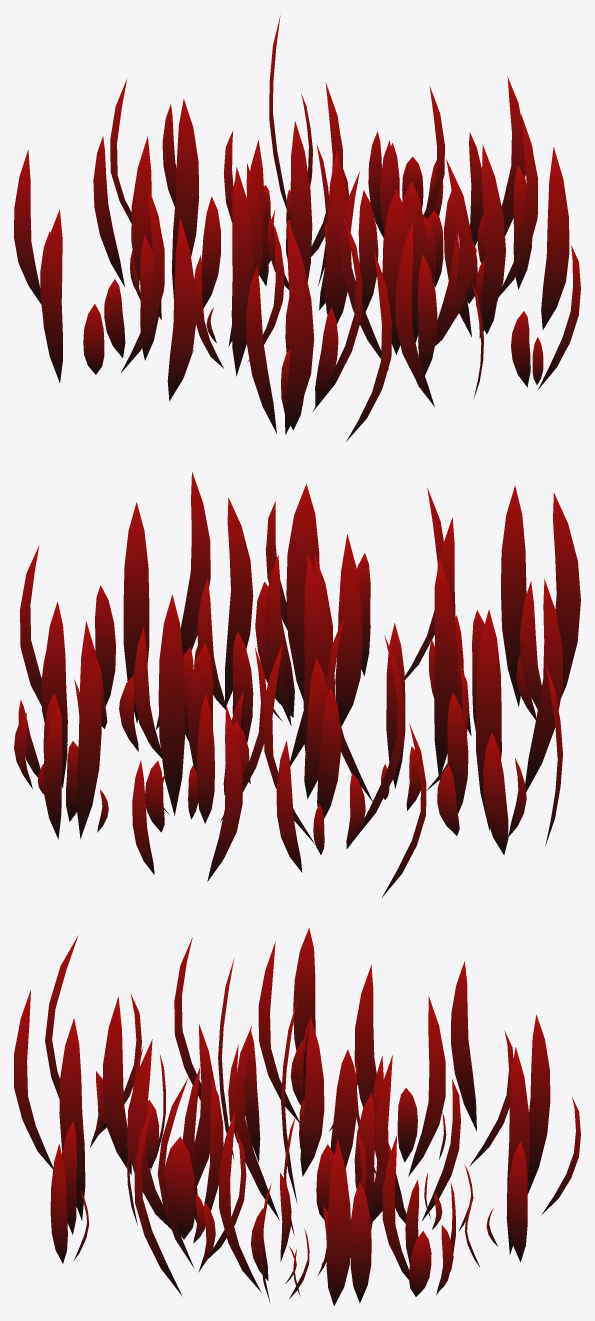
Rendered from grass.fbx.
3 renders of one model, top to bottom at view 1: azimuth 30°, elevation 25°; view 2: azimuth 150°, elevation 25°; view 3: azimuth 270°, elevation 25°, orthographic. The views are drawn at different scales.
Parts seen in each view (by area): view 1: Grass.076; view 2: Grass.076; view 3: Grass.076.
Boxes of the visible parts, box(x1,y1,x2,y2) form: Grass.076: box(14, 16, 580, 441); Grass.076: box(14, 472, 580, 897); Grass.076: box(14, 928, 580, 1305).
Size of the model in its own units: 381 by 165 by 389.
